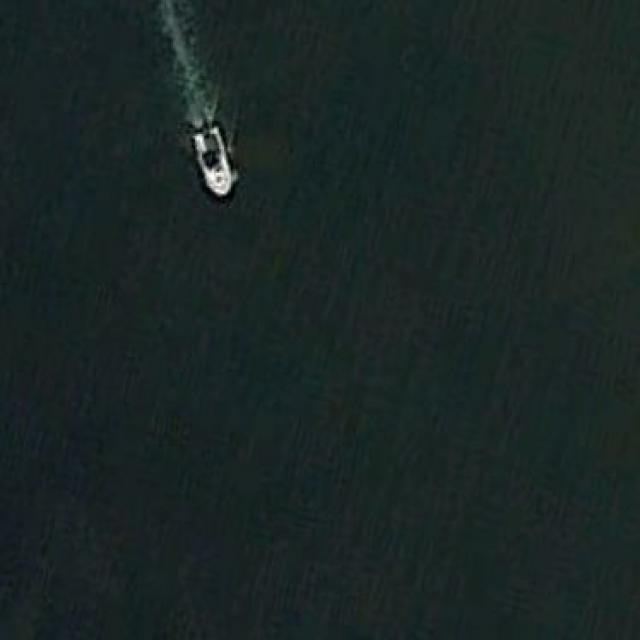ship: (188, 123, 234, 199)
